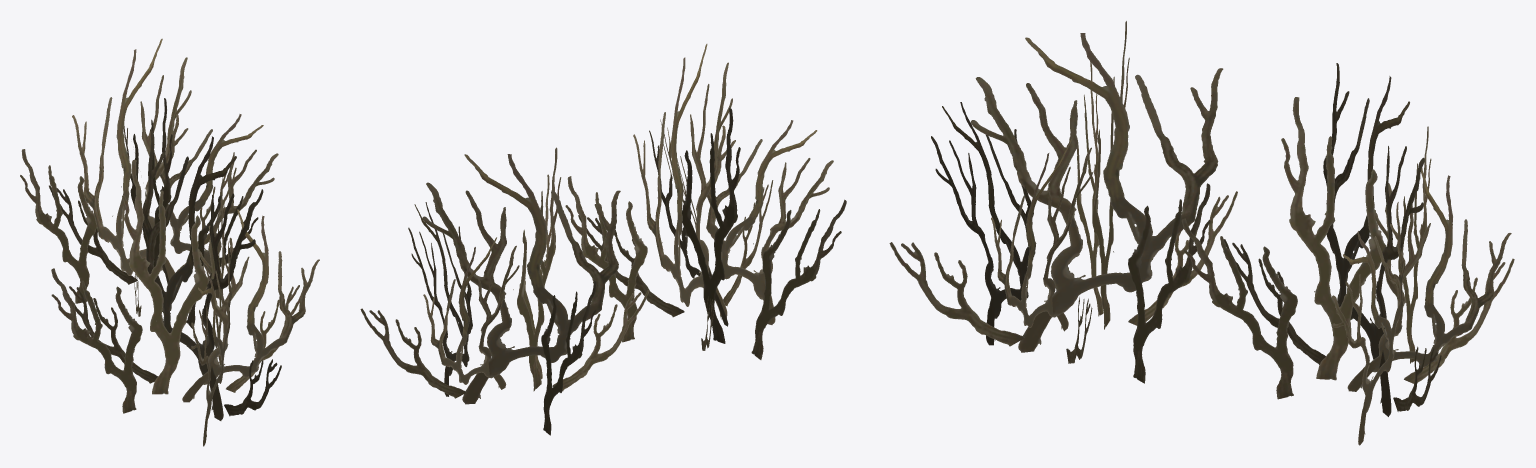
Rendered from Area_15_27.fbx.
The picture shows the model from 3 angles, left to right: view 1: azimuth 30°, elevation 25°; view 2: azimuth 150°, elevation 25°; view 3: azimuth 270°, elevation 25°; orthographic projection. The views are drawn at different scales.
Visible parts, largest first — view 1: Area_15_27; view 2: Area_15_27; view 3: Area_15_27.
Boxes of the visible parts, box(x1,y1,x2,y2) form: Area_15_27: box(20, 38, 319, 446); Area_15_27: box(360, 44, 846, 435); Area_15_27: box(889, 21, 1514, 445).
Size of the model in its own units: 462 by 357 by 594.
Materials: 1 (1 with a texture image).
